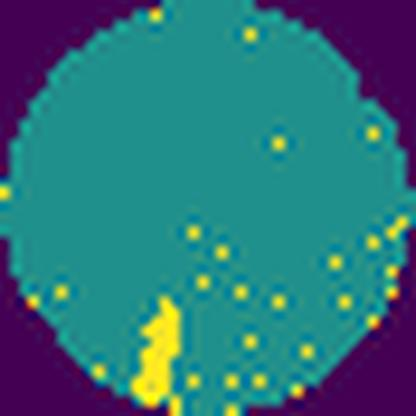Loc: (132, 292, 187, 416)
